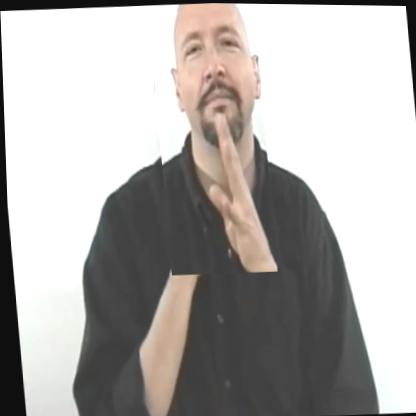Talk: (147, 2, 275, 275)
